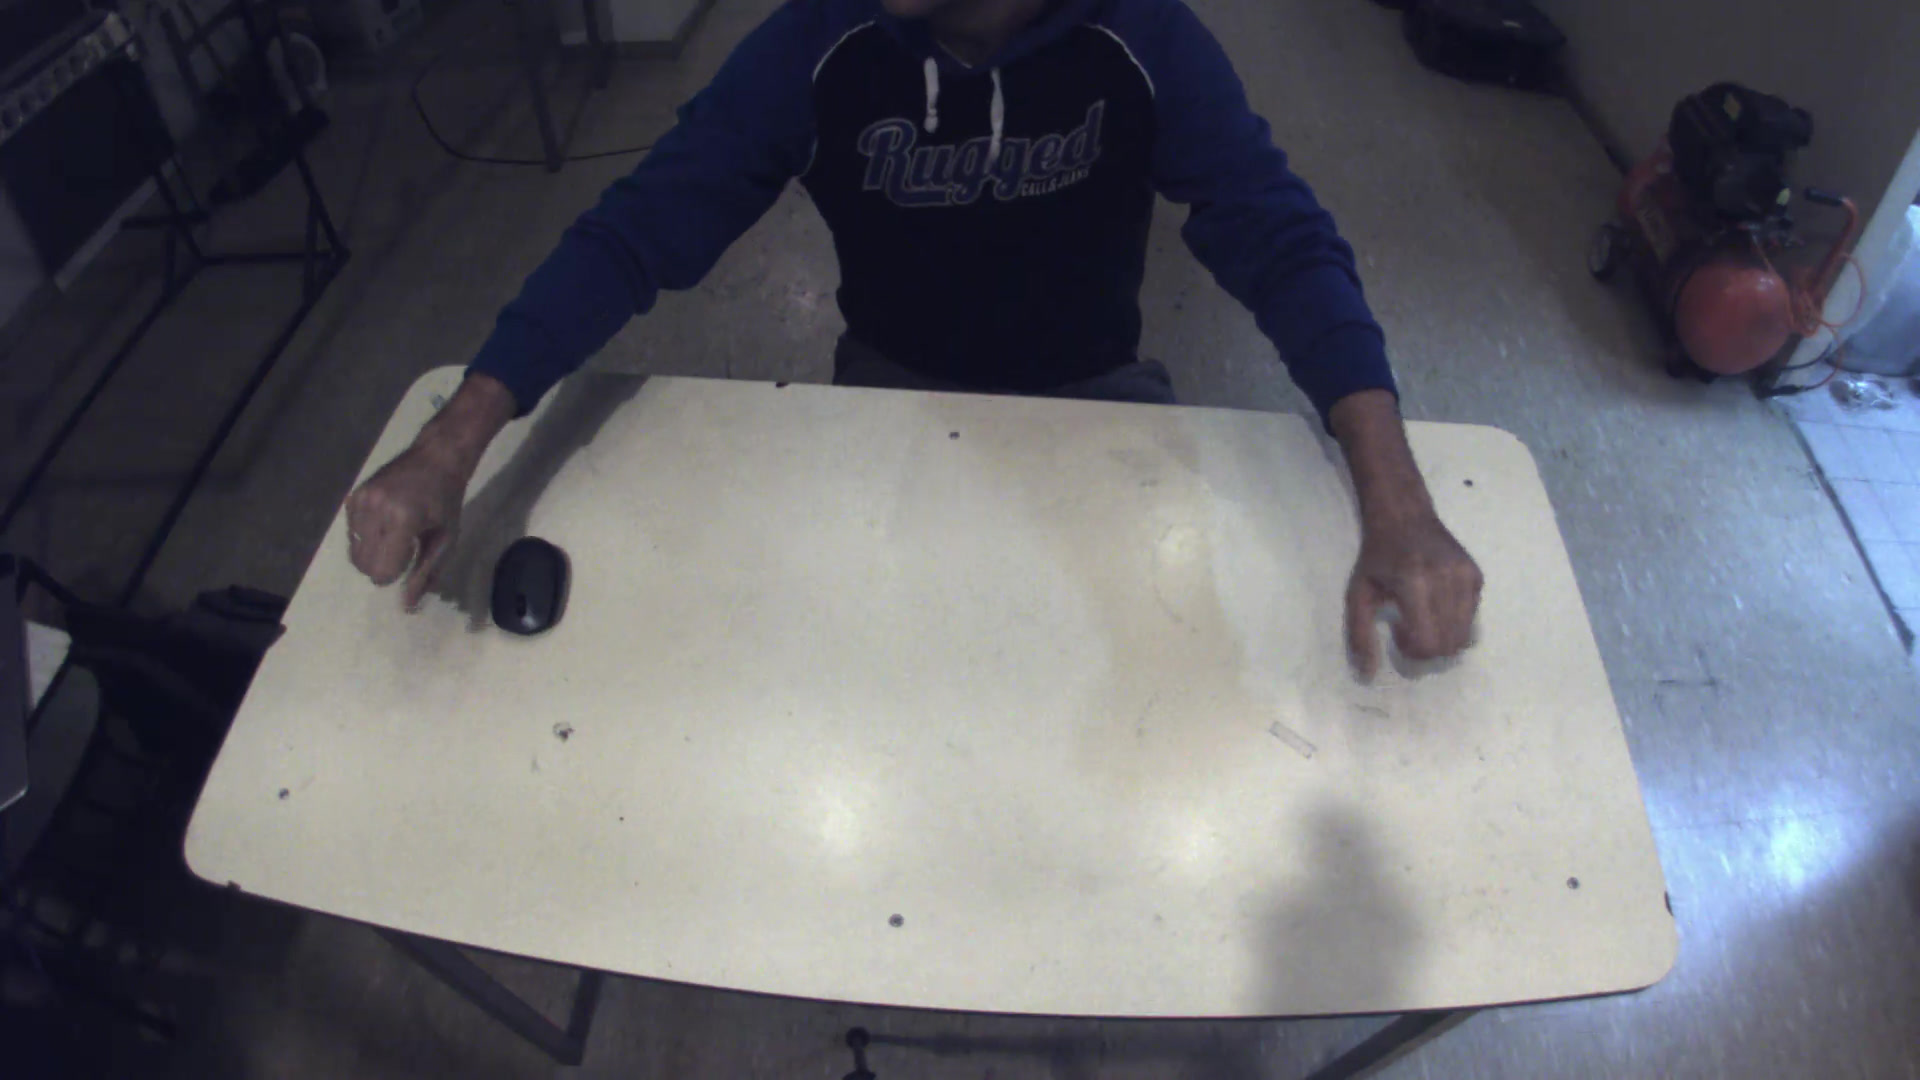hand: (331, 388, 479, 607), (1338, 493, 1494, 673)
